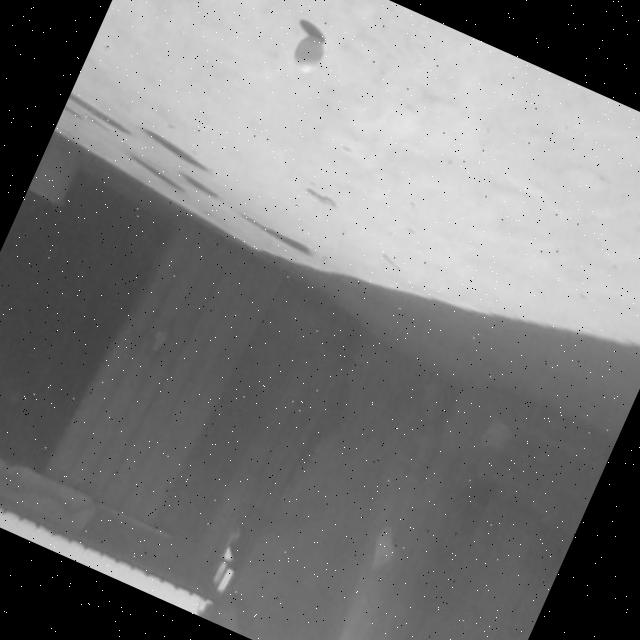ping-pong-ball: (289, 31, 329, 75)
